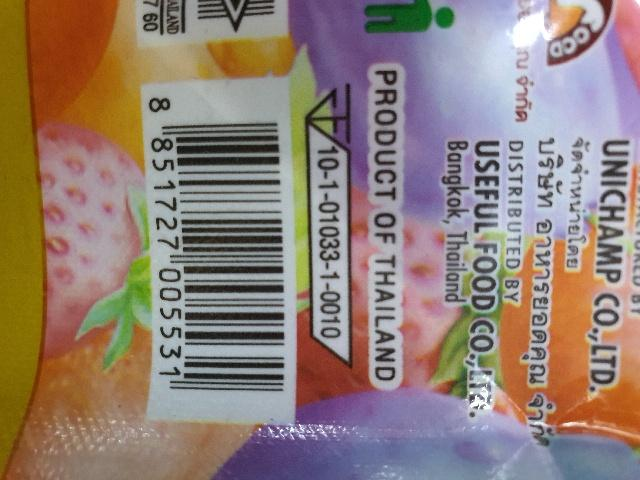Barcode: (143, 82, 291, 396)
